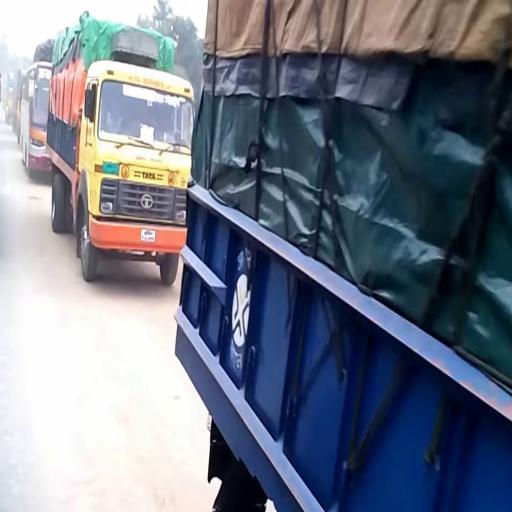bus: (18, 63, 53, 179)
truck: (174, 6, 512, 507), (45, 9, 200, 291)
